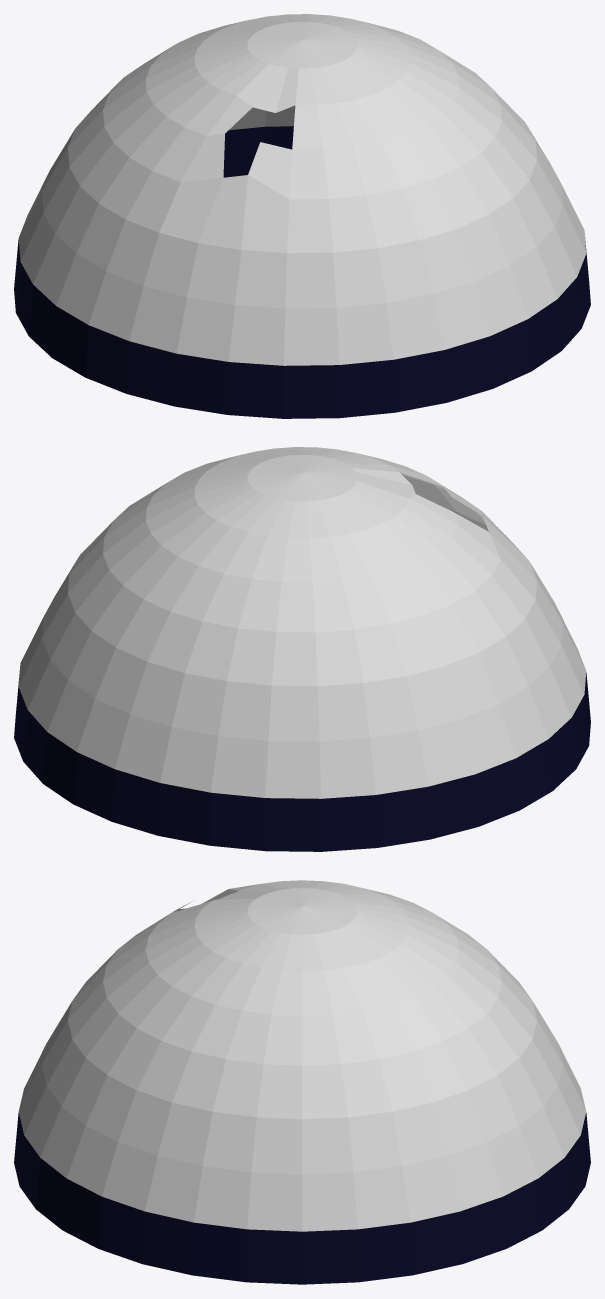
The model's file is dome.fbx.
3 renders of one model, top to bottom at view 1: azimuth 30°, elevation 25°; view 2: azimuth 150°, elevation 25°; view 3: azimuth 270°, elevation 25°, orthographic.
Visible parts, largest first — view 1: Sphere; view 2: Sphere; view 3: Sphere.
Part boxes in pixels (x1,y1,x2,y2): Sphere: (14,14,590,418); Sphere: (14,447,590,851); Sphere: (14,880,590,1284).
Size of the model in its own units: 204 by 100 by 204.
